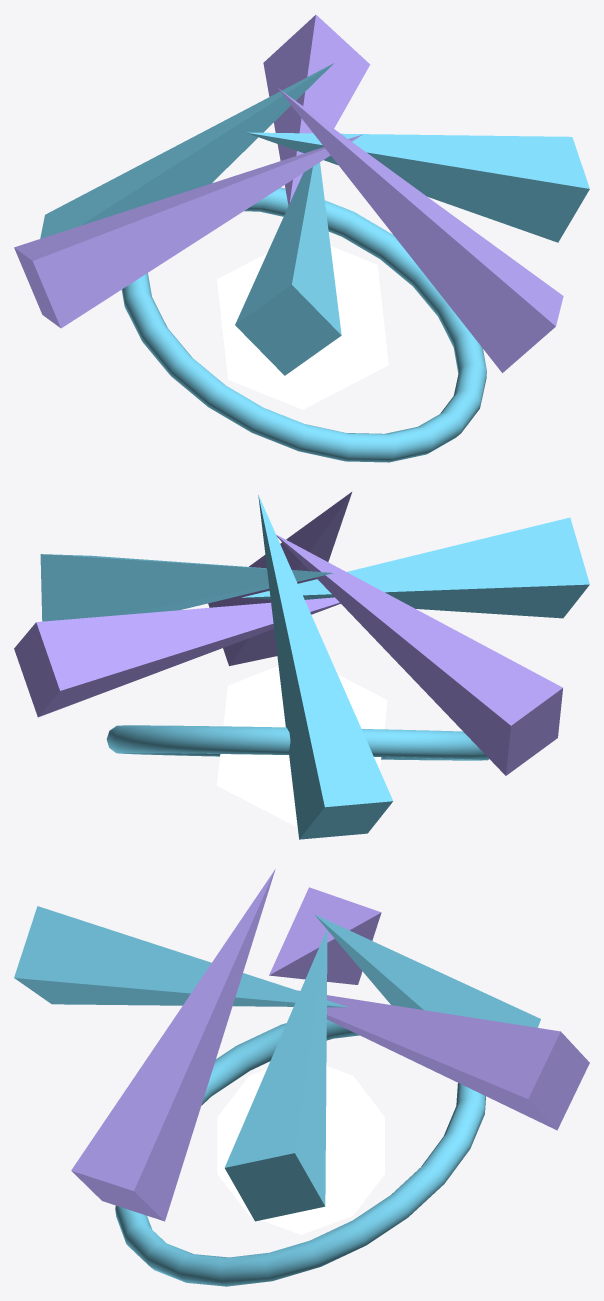
The model's file is enemy_refractor.glb.
3 views of the same model, one above another, from view 1: azimuth 30°, elevation 25°; view 2: azimuth 150°, elevation 25°; view 3: azimuth 270°, elevation 25° (orthographic). The views are drawn at different scales.
Parts seen in each view (by area): view 1: Ring, Prism5, Prism3, Prism0, Torso, Prism4, Prism2, Prism1; view 2: Prism3, Prism2, Prism1, Prism4, Prism0, Ring, Torso, Prism5; view 3: Prism5, Prism0, Ring, Prism1, Prism4, Torso, Prism2, Prism3.
Boxes of the visible parts, <box> form: Ring: <box>121,182,486,462</box>; Prism5: <box>278,88,563,372</box>; Prism3: <box>14,134,362,328</box>; Prism0: <box>246,132,589,242</box>; Torso: <box>217,246,388,409</box>; Prism4: <box>235,162,341,375</box>; Prism2: <box>40,63,333,238</box>; Prism1: <box>263,15,370,205</box>; Prism3: <box>276,534,562,775</box>; Prism2: <box>258,495,393,839</box>; Prism1: <box>14,597,340,717</box>; Prism4: <box>242,517,589,618</box>; Prism0: <box>40,554,333,621</box>; Ring: <box>106,725,488,760</box>; Torso: <box>217,665,387,827</box>; Prism5: <box>208,492,351,666</box>; Prism5: <box>71,869,275,1221</box>; Prism0: <box>224,930,327,1221</box>; Ring: <box>115,1019,485,1286</box>; Prism1: <box>297,990,589,1130</box>; Prism4: <box>14,906,347,1007</box>; Torso: <box>217,1066,384,1234</box>; Prism2: <box>314,914,540,1027</box>; Prism3: <box>269,887,381,984</box>.
Size of the model in its own units: 2.87 by 1.75 by 2.63.
